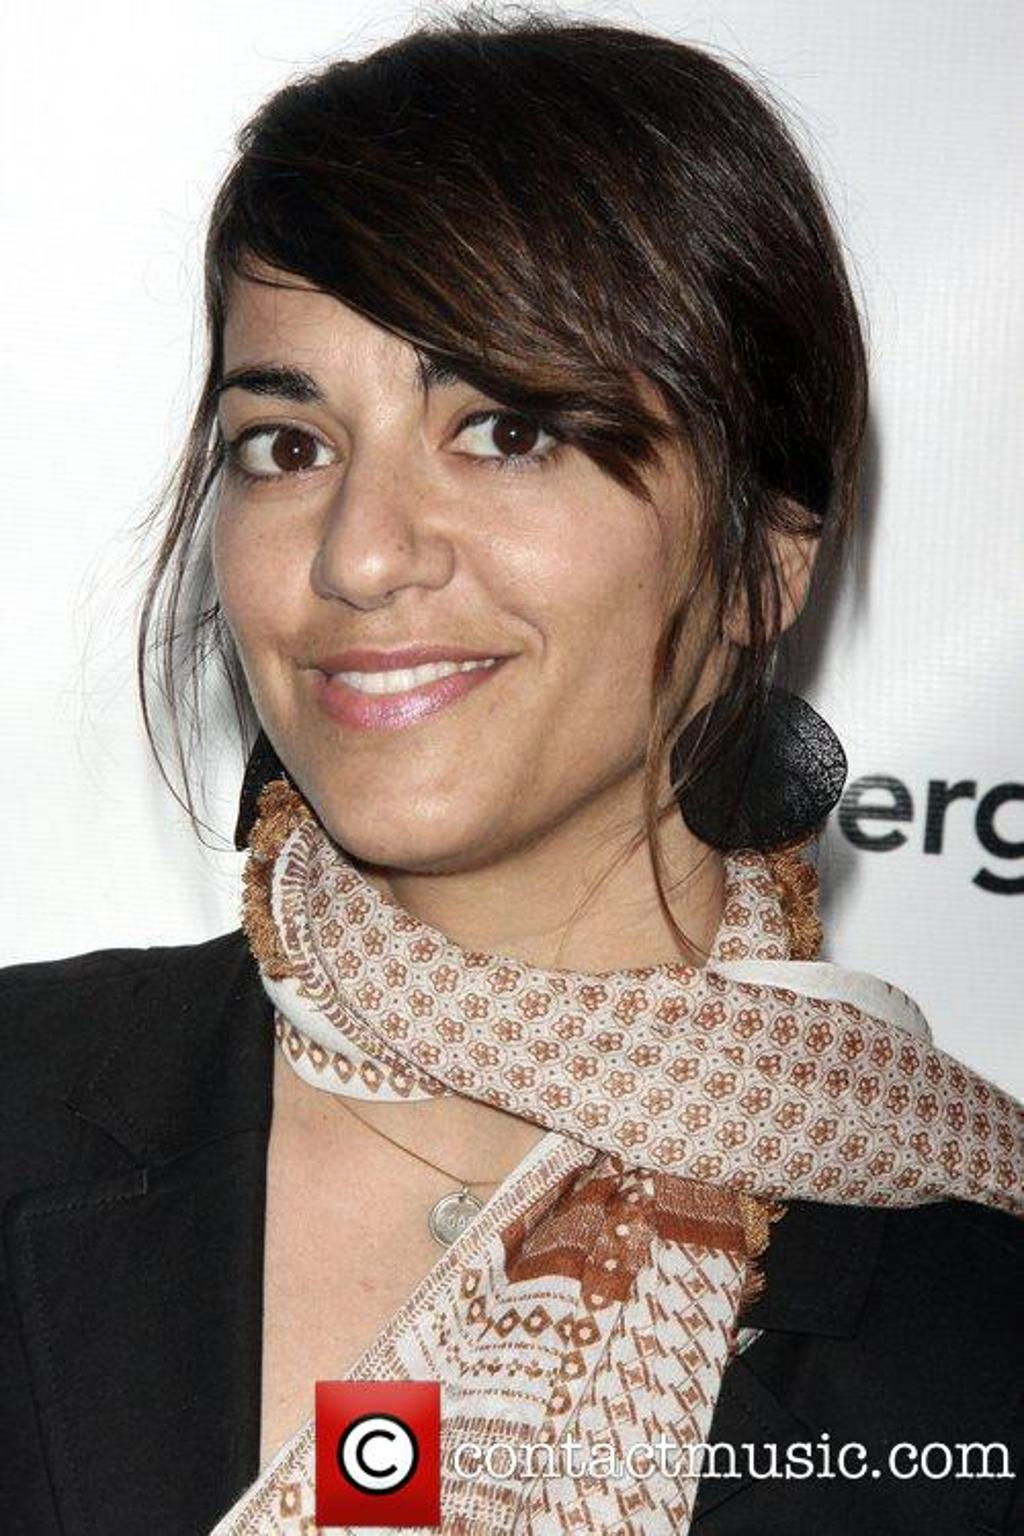face: (207, 219, 727, 856)
